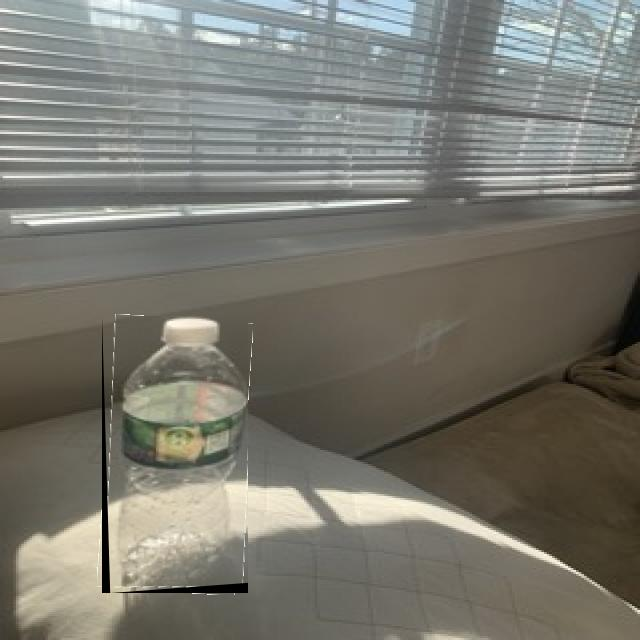water_bottle: (102, 316, 248, 593)
